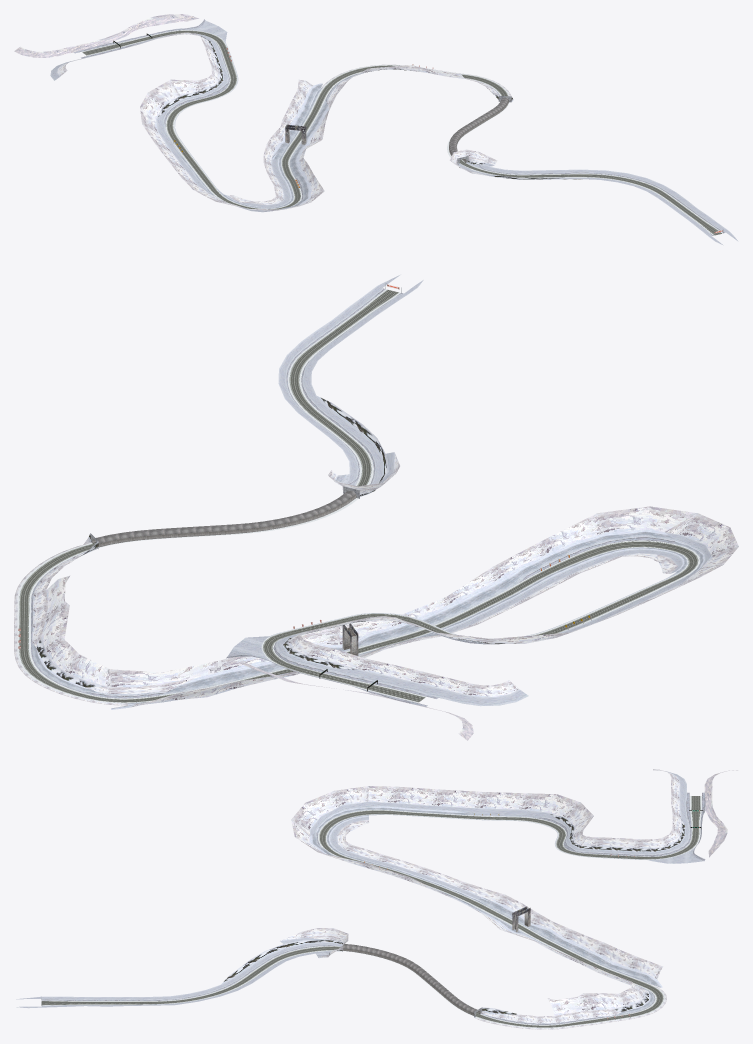
File: stage-snow-env.glb
The picture shows the model from 3 angles, top to bottom: view 1: azimuth 30°, elevation 25°; view 2: azimuth 150°, elevation 25°; view 3: azimuth 270°, elevation 25°; orthographic projection. The views are drawn at different scales.
Parts seen in each view (by area): view 1: env part 1 chunk -3,-5, env part 1 chunk -4,-4, env part 1 chunk -1,-2, env part 0 chunk -3,-4, env part 1 chunk -4,-7, env part 1 chunk -2,-6, env part 0 chunk -2,-4, env part 1 chunk -4,-6, env part 1 chunk -3,-6, env part 1 chunk -1,-4, env part 1 chunk -2,-3, env part 0 chunk -4,-5 (+1 smaller); view 2: env part 1 chunk -3,-5, env part 1 chunk -4,-6, env part 1 chunk -1,-2, env part 1 chunk -4,-4, env part 0 chunk -3,-4, env part 1 chunk -1,-4, env part 0 chunk -2,-4, env part 1 chunk -3,-6, env part 1 chunk -2,-6, env part 1 chunk -2,-5, env part 0 chunk -1,-6, env part 1 chunk -4,-7 (+3 smaller); view 3: env part 1 chunk -3,-5, env part 1 chunk -4,-4, env part 1 chunk -2,-6, env part 0 chunk -3,-4, env part 1 chunk -4,-6, env part 1 chunk -1,-2, env part 0 chunk -2,-4, env part 1 chunk -3,-6, env part 1 chunk -1,-4, env part 1 chunk -1,-5, env part 1 chunk -4,-7, env part 1 chunk -2,-3 (+5 smaller).
Part boxes in pixels (x1=…): env part 1 chunk -3,-5: x1=140, y1=65, x2=465, y2=210; env part 1 chunk -4,-4: x1=156, y1=81, x2=293, y2=212; env part 1 chunk -1,-2: x1=458, y1=162, x2=738, y2=245; env part 0 chunk -3,-4: x1=82, y1=30, x2=721, y2=235; env part 1 chunk -4,-7: x1=14, y1=14, x2=205, y2=57; env part 1 chunk -2,-6: x1=274, y1=64, x2=475, y2=142; env part 0 chunk -2,-4: x1=82, y1=30, x2=723, y2=233; env part 1 chunk -4,-6: x1=50, y1=32, x2=229, y2=82; env part 1 chunk -3,-6: x1=156, y1=20, x2=413, y2=118; env part 1 chunk -1,-4: x1=449, y1=97, x2=508, y2=162; env part 1 chunk -2,-3: x1=449, y1=149, x2=496, y2=176; env part 0 chunk -4,-5: x1=166, y1=101, x2=200, y2=170; env part 1 chunk -3,-5: x1=32, y1=506, x2=738, y2=695; env part 1 chunk -4,-6: x1=273, y1=616, x2=528, y2=706; env part 1 chunk -1,-2: x1=278, y1=274, x2=423, y2=485; env part 1 chunk -4,-4: x1=358, y1=532, x2=711, y2=657; env part 0 chunk -3,-4: x1=19, y1=289, x2=699, y2=702; env part 1 chunk -1,-4: x1=92, y1=490, x2=356, y2=547; env part 0 chunk -2,-4: x1=17, y1=289, x2=688, y2=703; env part 1 chunk -3,-6: x1=36, y1=613, x2=524, y2=687; env part 1 chunk -2,-6: x1=14, y1=595, x2=299, y2=709; env part 1 chunk -2,-5: x1=31, y1=536, x2=675, y2=698; env part 0 chunk -1,-6: x1=20, y1=574, x2=68, y2=690; env part 1 chunk -4,-7: x1=226, y1=655, x2=473, y2=740; env part 1 chunk -3,-5: x1=291, y1=786, x2=654, y2=1022; env part 1 chunk -4,-4: x1=309, y1=801, x2=578, y2=927; env part 1 chunk -2,-6: x1=527, y1=914, x2=666, y2=1028; env part 0 chunk -3,-4: x1=42, y1=796, x2=700, y2=1027; env part 1 chunk -4,-6: x1=575, y1=769, x2=691, y2=856; env part 1 chunk -1,-2: x1=16, y1=937, x2=342, y2=1008; env part 0 chunk -2,-4: x1=42, y1=796, x2=701, y2=1028; env part 1 chunk -3,-6: x1=548, y1=812, x2=703, y2=1011; env part 1 chunk -1,-4: x1=343, y1=944, x2=480, y2=1015; env part 1 chunk -1,-5: x1=474, y1=1007, x2=563, y2=1029; env part 1 chunk -4,-7: x1=693, y1=770, x2=737, y2=860; env part 1 chunk -2,-3: x1=280, y1=928, x2=348, y2=958.
Size of the model in its own units: 1390 by 278 by 2118.
27 materials, 26 textured.
